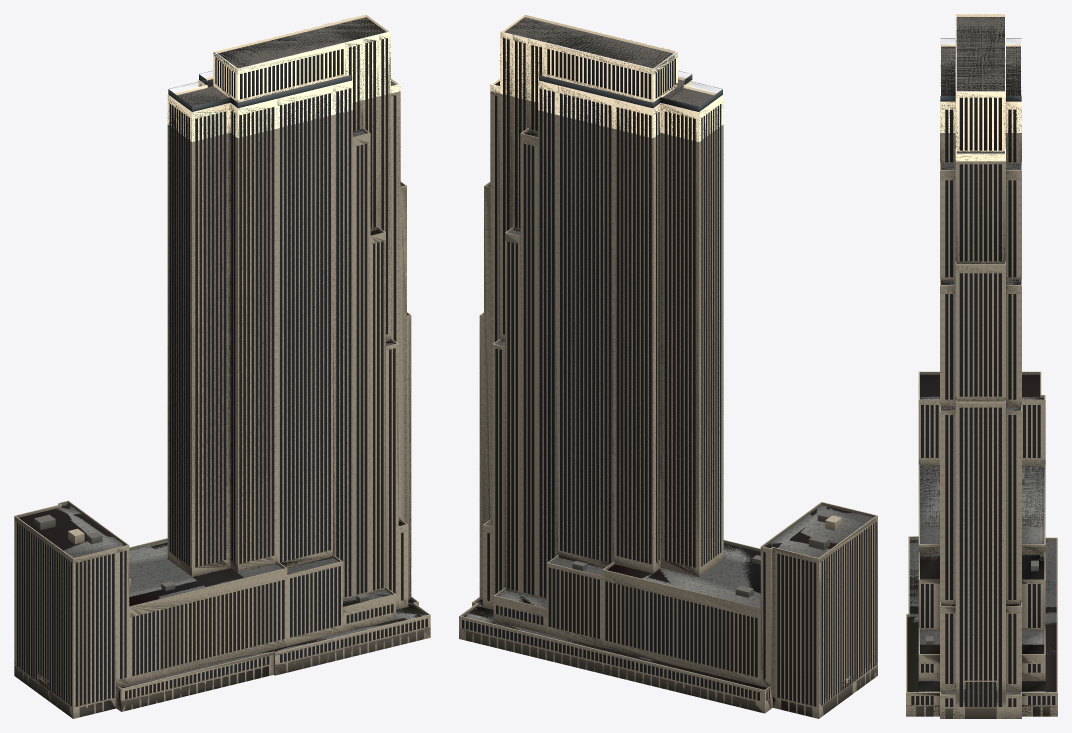
Rendered from rockefeller_30.glb.
3 views of the same model, side by side, from view 1: azimuth 30°, elevation 25°; view 2: azimuth 150°, elevation 25°; view 3: azimuth 270°, elevation 25° (orthographic). The views are drawn at different scales.
Visible parts, largest first — view 1: rockefeller_30_far, rockefeller_30; view 2: rockefeller_30_far, rockefeller_30; view 3: rockefeller_30, rockefeller_30_far.
Boxes of the visible parts, bbox=[...] form: rockefeller_30_far: bbox=[14, 15, 430, 718]; rockefeller_30: bbox=[14, 14, 430, 718]; rockefeller_30_far: bbox=[459, 17, 877, 718]; rockefeller_30: bbox=[459, 14, 877, 718]; rockefeller_30: bbox=[906, 14, 1057, 718]; rockefeller_30_far: bbox=[906, 14, 1057, 718].
Bounding box in the file's own units: 163 × 259 × 57.84.
Materials: 10 (8 with a texture image).
